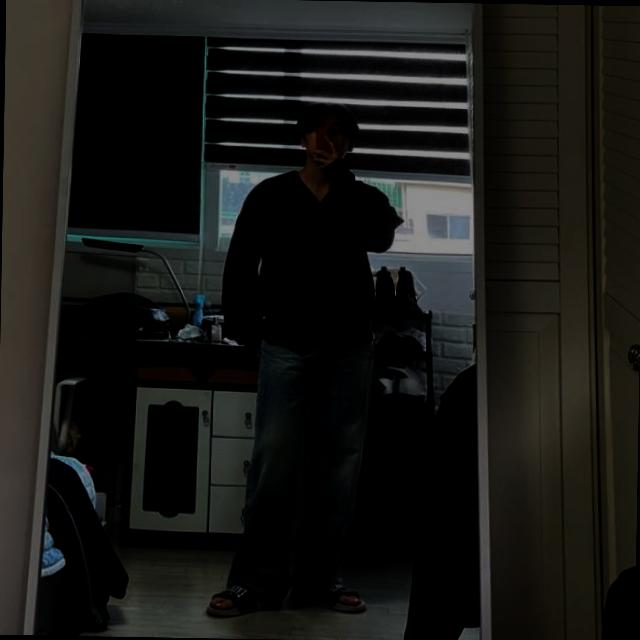cardigan: (220, 162, 402, 352)
denimpants: (228, 304, 376, 608)
